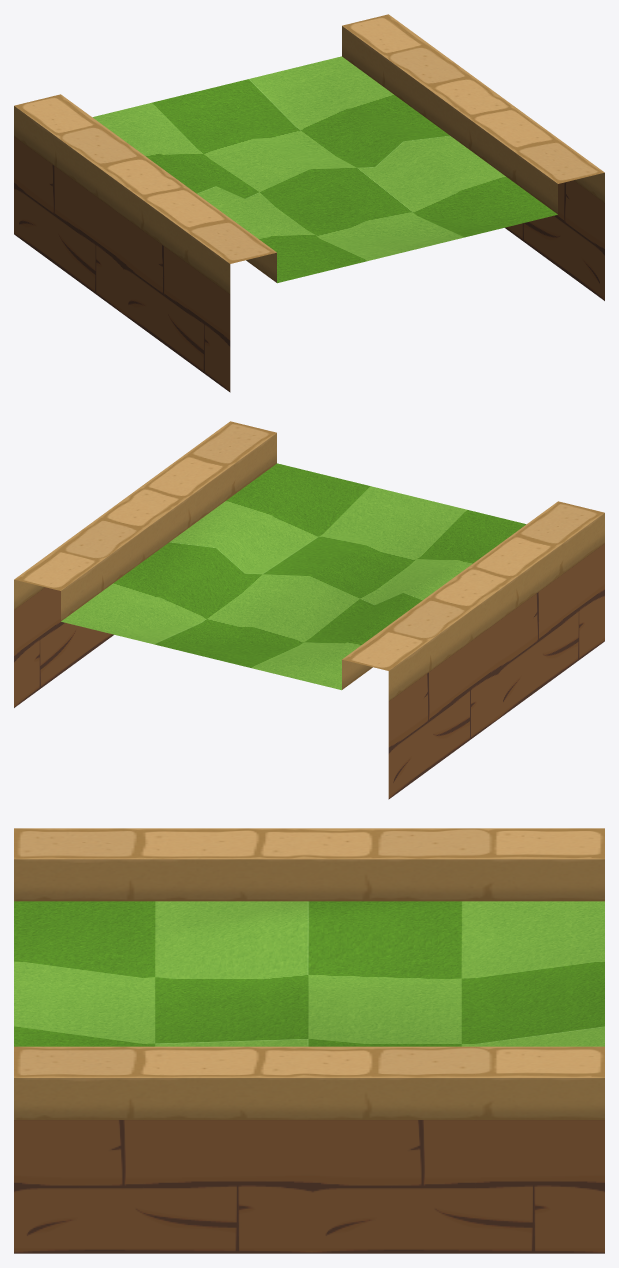
Rendered from tile16.FBX.
3 renders of one model, top to bottom at view 1: azimuth 30°, elevation 25°; view 2: azimuth 150°, elevation 25°; view 3: azimuth 270°, elevation 25°, orthographic. The views are drawn at different scales.
Parts seen in each view (by area): view 1: tile16_walls, tile16_floor; view 2: tile16_walls, tile16_floor; view 3: tile16_walls, tile16_floor.
Boxes of the visible parts, x1,y1,x2,y2 form: tile16_walls: [14, 14, 604, 392]; tile16_floor: [92, 56, 557, 283]; tile16_walls: [14, 421, 604, 799]; tile16_floor: [61, 463, 526, 690]; tile16_walls: [14, 828, 604, 1253]; tile16_floor: [14, 901, 604, 1046].
Size of the model in its own units: 1280 by 420 by 1280.
